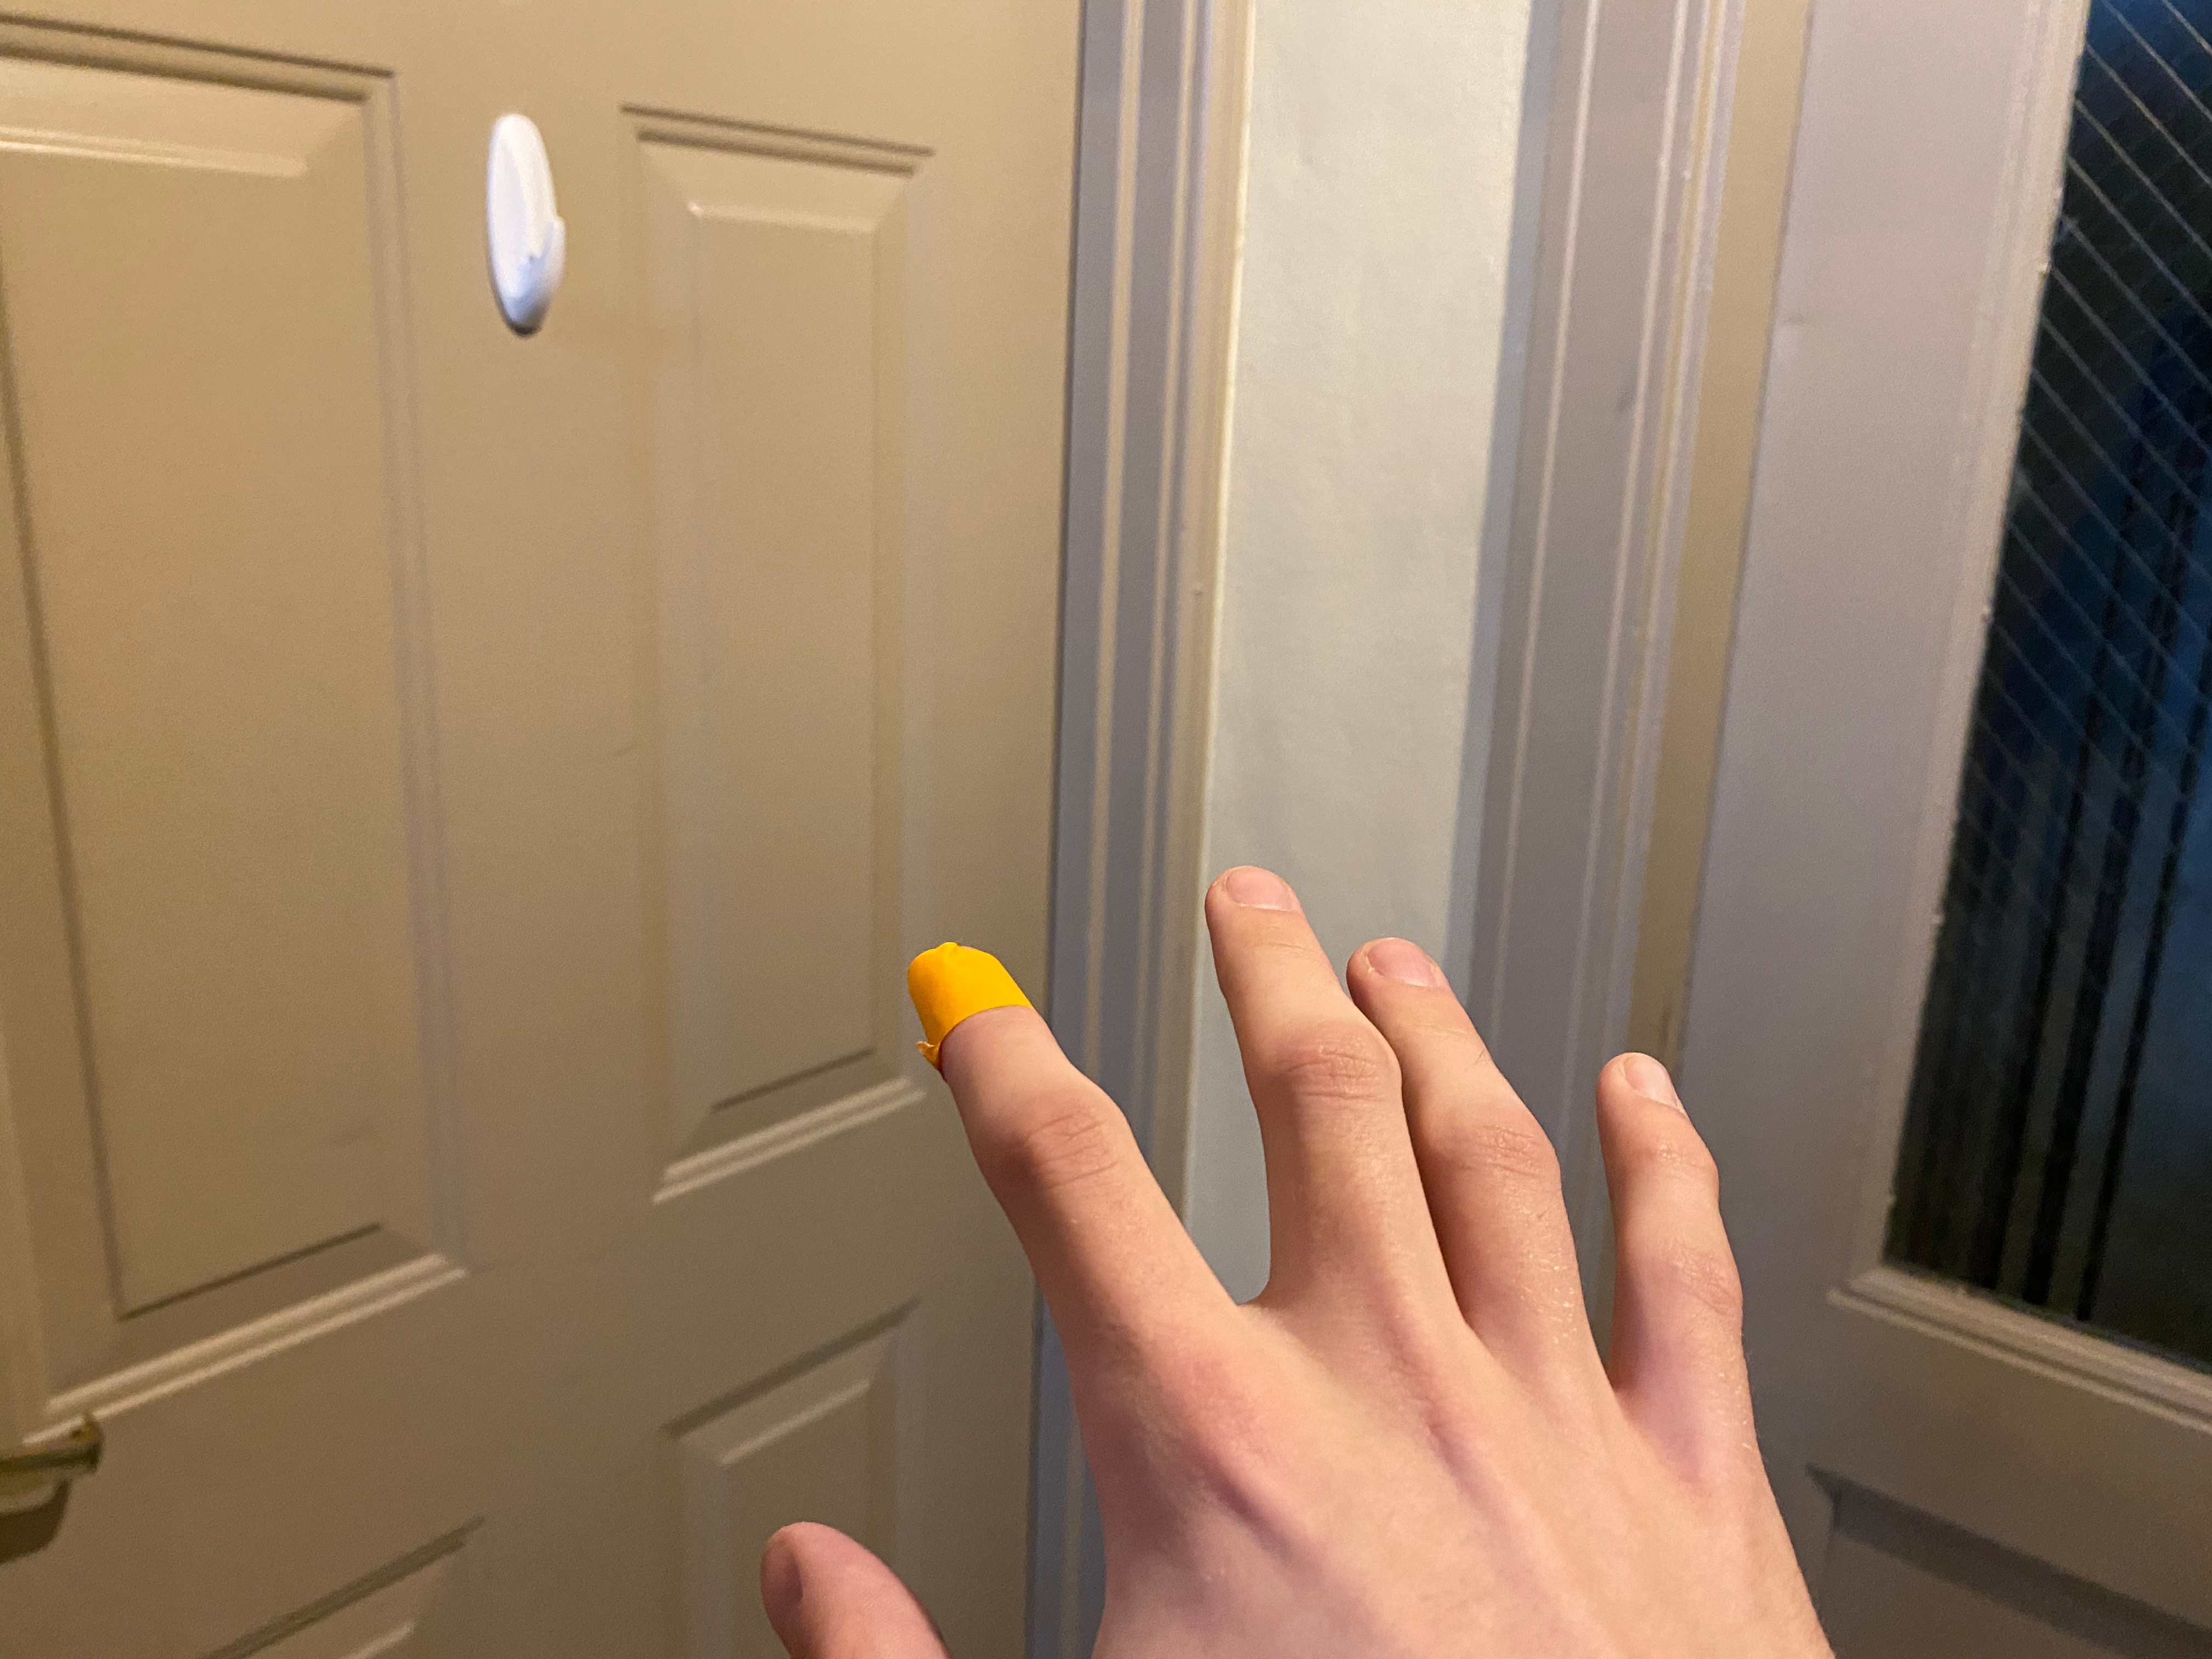fingertip: (892, 934, 1031, 1079)
